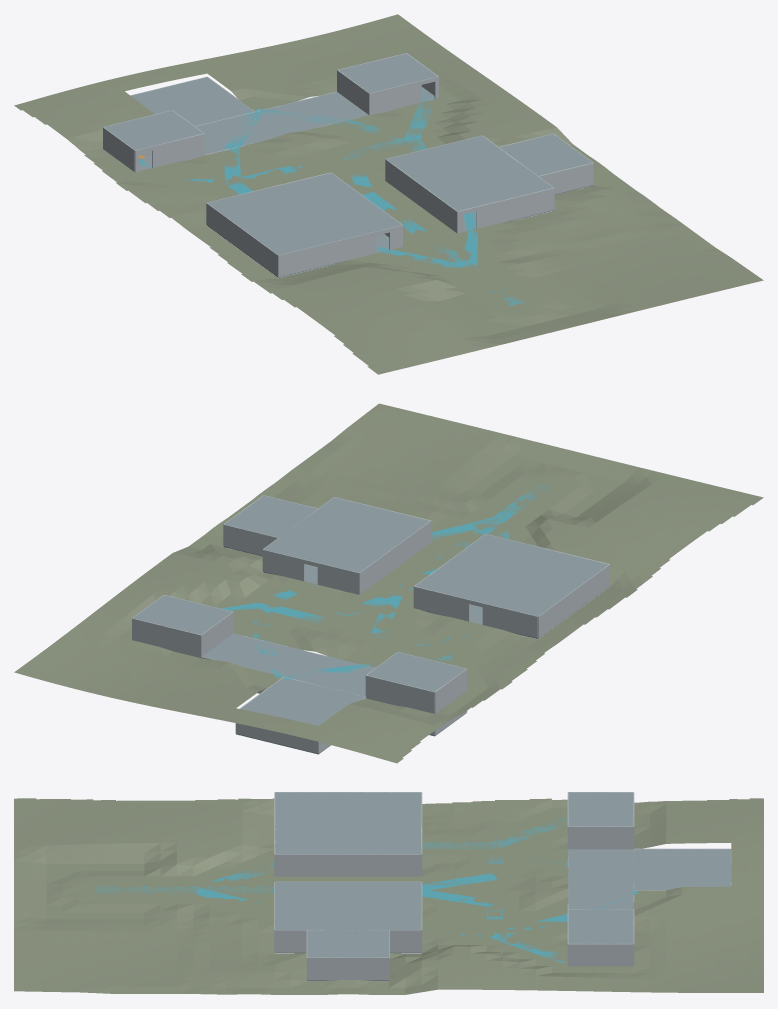
The model's file is closed-floors.glb.
The picture shows the model from 3 angles, top to bottom: view 1: azimuth 30°, elevation 25°; view 2: azimuth 150°, elevation 25°; view 3: azimuth 270°, elevation 25°; orthographic projection. The views are drawn at different scales.
Visible parts, largest first — view 1: Saved editor terrain WLD-07, Ceiling cap chapel, Ceiling cap cottage, Ceiling cap chamber, Wall chapel S, Ceiling cap west-stair, Ceiling cap east-stair, Ceiling cap tool, Ceiling cap ossuary.002, Wall cottage S.001, Ceiling cap ossuary, Wall cottage W (+7 smaller); view 2: Saved editor terrain WLD-07, Ceiling cap chapel, Ceiling cap cottage, Ceiling cap chamber, Ceiling cap east-stair, Ceiling cap tool, Ceiling cap west-stair, Ceiling cap ossuary, Ceiling cap ossuary.002, Wall cottage W, Wall chapel W, Wall east-stair N (+10 smaller); view 3: Saved editor terrain WLD-07, Ceiling cap chapel, Ceiling cap cottage, Ceiling cap chamber, Wall chapel E, Ceiling cap east-stair, Ceiling cap west-stair, Ceiling cap tool, Wall tool E, Ceiling cap ossuary, Ceiling cap ossuary.002, Wall west-stair E (+9 smaller).
Boxes of the visible parts, x1,y1,x2,y2 form: Saved editor terrain WLD-07: [14, 14, 763, 374]; Ceiling cap chapel: [207, 173, 401, 255]; Ceiling cap cottage: [386, 135, 553, 211]; Ceiling cap chamber: [131, 77, 253, 125]; Wall chapel S: [278, 231, 376, 276]; Ceiling cap west-stair: [104, 110, 203, 149]; Ceiling cap east-stair: [338, 53, 437, 92]; Ceiling cap tool: [499, 134, 592, 175]; Ceiling cap ossuary.002: [204, 106, 368, 154]; Wall cottage S.001: [476, 188, 554, 228]; Ceiling cap ossuary: [195, 92, 348, 135]; Wall cottage W: [385, 159, 457, 233]; Saved editor terrain WLD-07: [14, 403, 763, 763]; Ceiling cap chapel: [415, 534, 608, 616]; Ceiling cap cottage: [263, 497, 429, 572]; Ceiling cap chamber: [240, 677, 365, 725]; Ceiling cap east-stair: [133, 595, 232, 634]; Ceiling cap tool: [224, 495, 317, 537]; Ceiling cap west-stair: [367, 652, 465, 691]; Ceiling cap ossuary: [202, 648, 365, 696]; Ceiling cap ossuary.002: [221, 634, 374, 677]; Wall cottage W: [359, 521, 431, 594]; Wall chapel W: [538, 564, 609, 638]; Wall east-stair N: [132, 618, 201, 656]; Saved editor terrain WLD-07: [14, 798, 763, 994]; Ceiling cap chapel: [275, 792, 421, 854]; Ceiling cap cottage: [275, 882, 421, 929]; Ceiling cap chamber: [633, 849, 731, 890]; Wall chapel E: [275, 854, 421, 876]; Ceiling cap east-stair: [568, 909, 633, 943]; Ceiling cap west-stair: [568, 792, 633, 826]; Ceiling cap tool: [307, 930, 388, 957]; Wall tool E: [307, 957, 388, 979]; Ceiling cap ossuary: [608, 849, 633, 909]; Ceiling cap ossuary.002: [568, 849, 593, 909]; Wall west-stair E: [568, 826, 633, 849].
Size of the model in its own units: 56 by 6.16 by 92.
